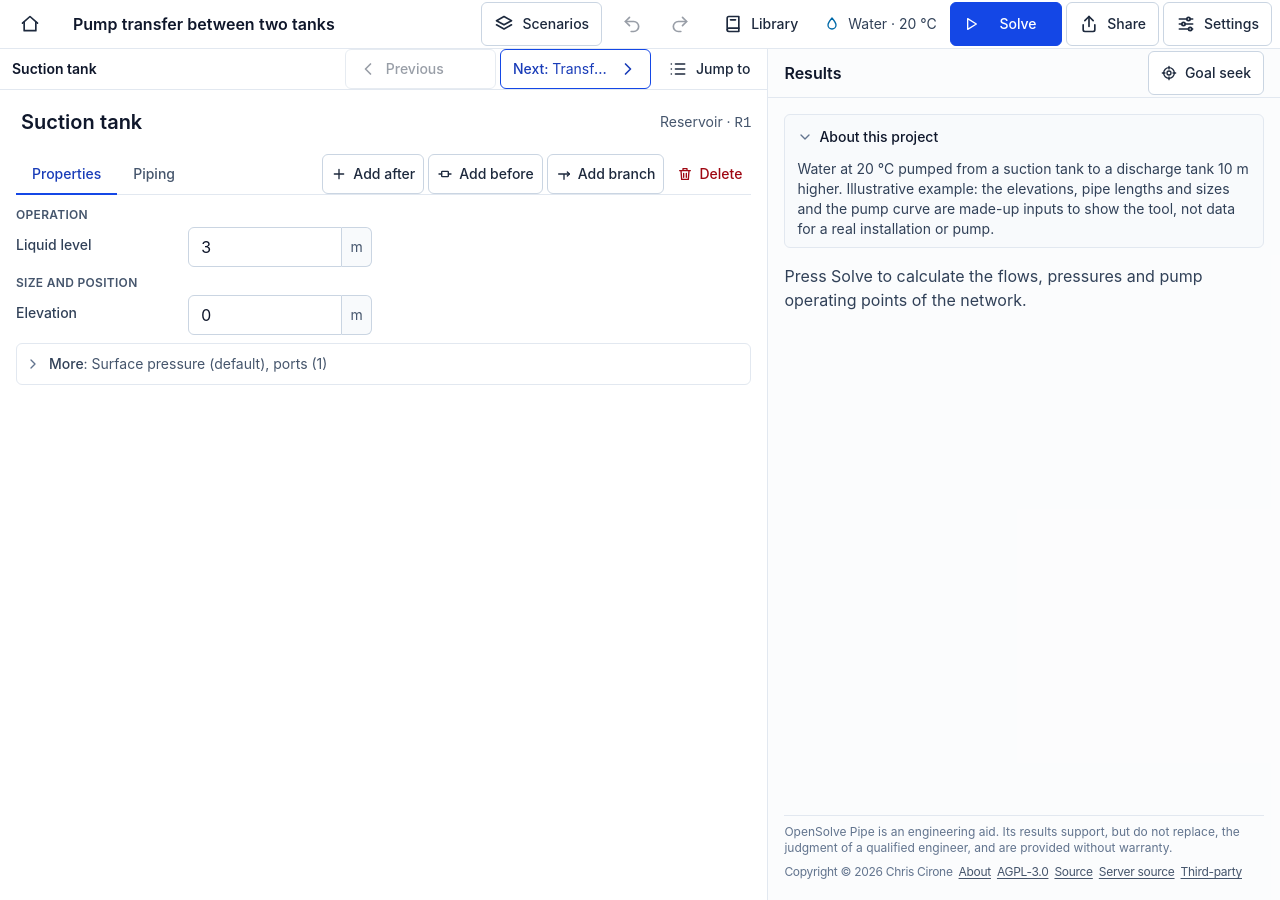
Scenario: the export dialog › offers the format, the units and the link, with the defaults ready and Download focused
This screenshot has width=1280, height=900.
Click the button "Solve" at (1006, 24), box x1=950 y1=2 x2=1062 y2=46
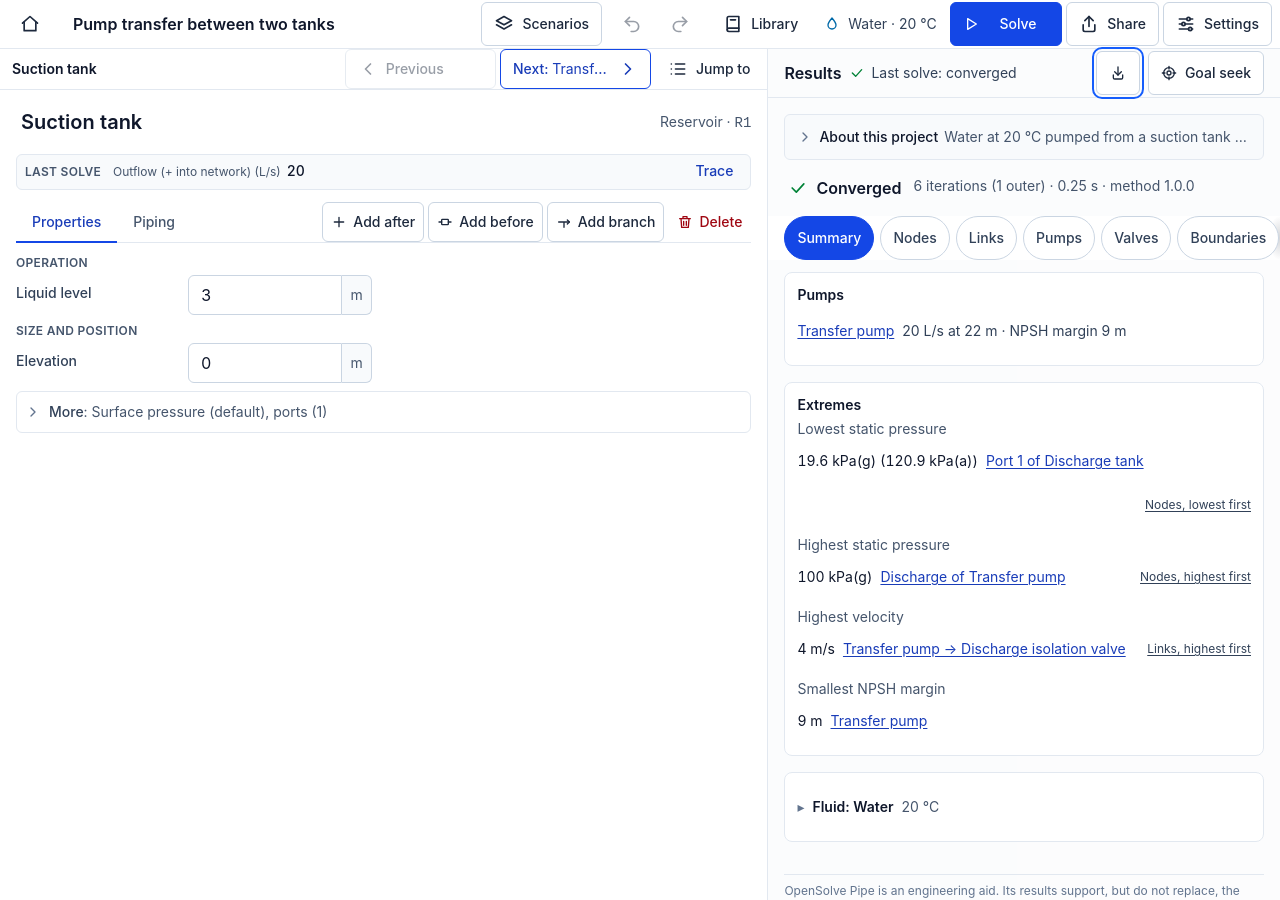
Click the button named "Export results" at (1118, 73), box x1=1096 y1=51 x2=1140 y2=95
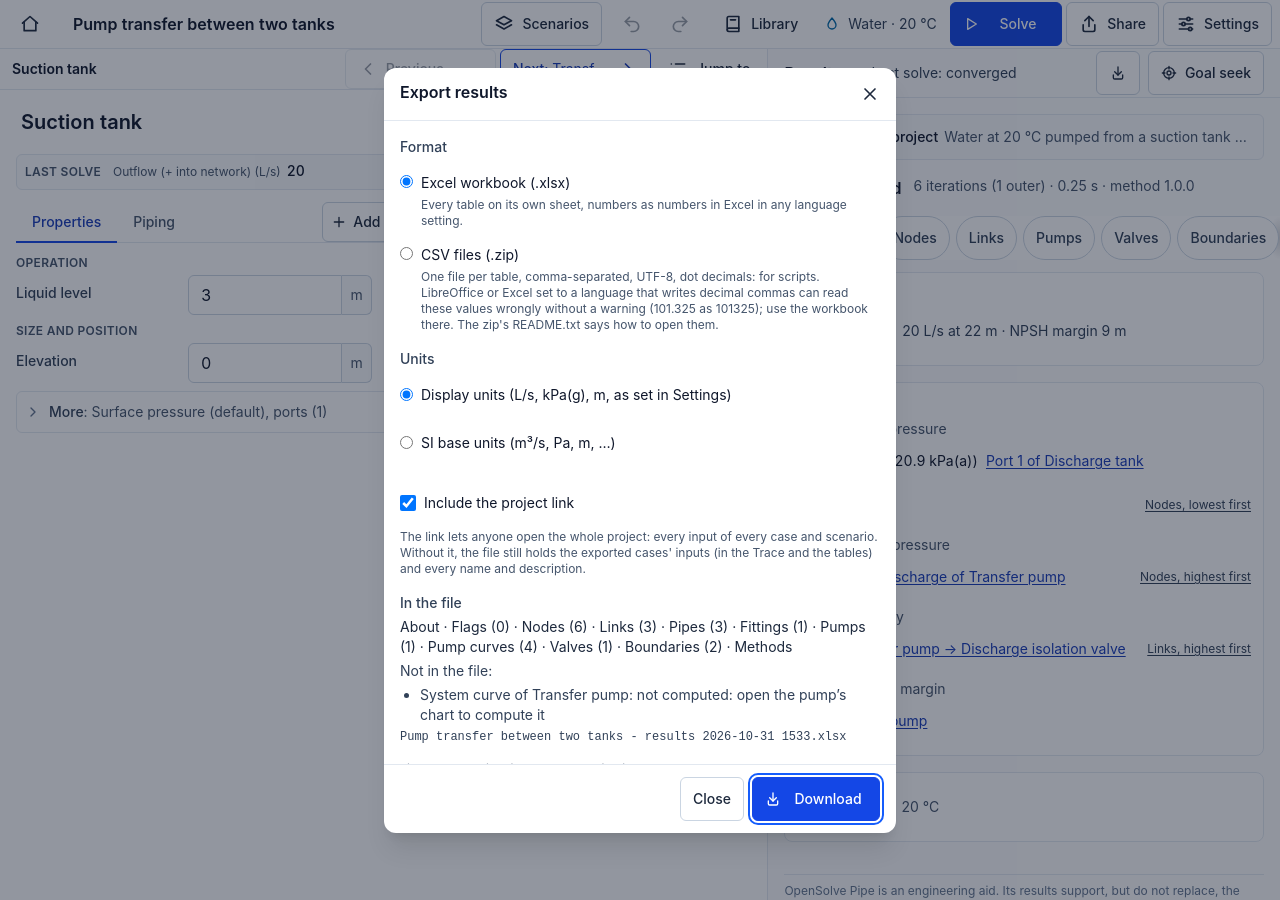
Check: the radio button labelled "Excel workbook (.xlsx)" is checked, box x1=400 y1=174 x2=413 y2=188
Check: the radio button labelled "CSV files (.zip)" is not checked, box x1=400 y1=246 x2=413 y2=260
Check: the radio button labelled "Display units (L/s, kPa(g), m, as set in Settings)" is checked, box x1=400 y1=388 x2=413 y2=401
